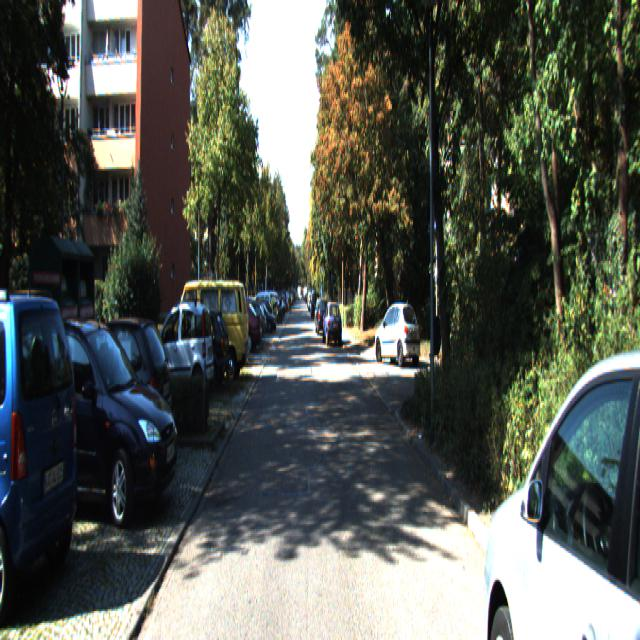Car: (476, 314, 640, 638), (0, 307, 181, 524), (0, 285, 85, 613), (51, 310, 176, 472), (175, 276, 250, 384), (142, 297, 216, 404), (161, 306, 230, 394), (374, 300, 421, 369), (322, 302, 342, 348)
